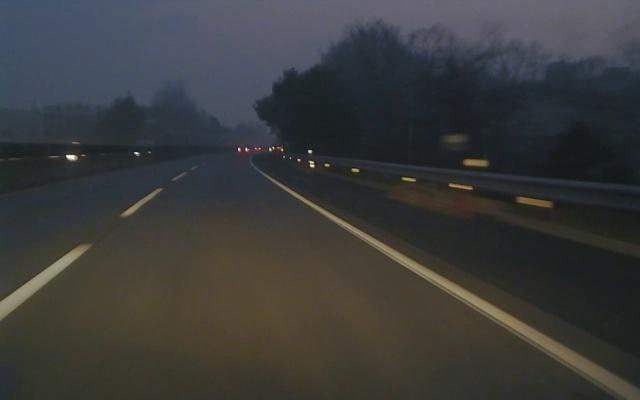lane: (282, 186, 640, 400), (0, 175, 180, 319)
